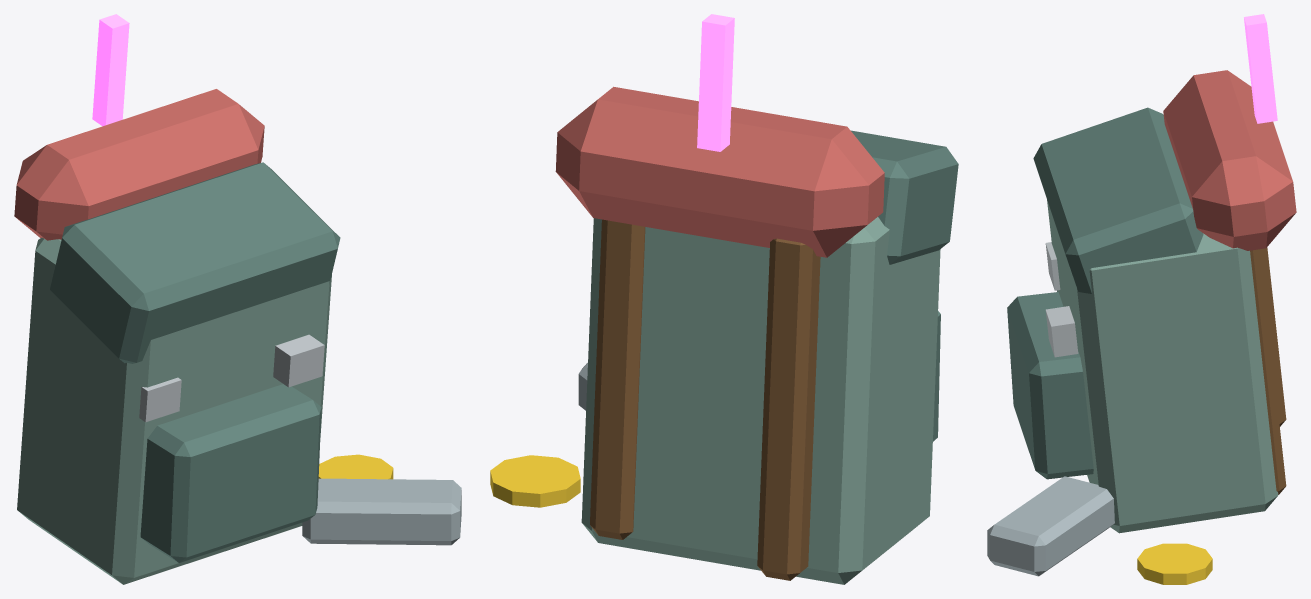
The model's file is loot_player_backpack.glb.
The picture shows the model from 3 angles, left to right: view 1: azimuth 30°, elevation 25°; view 2: azimuth 150°, elevation 25°; view 3: azimuth 270°, elevation 25°; orthographic projection. The views are drawn at different scales.
Parts seen in each view (by area): view 1: Pack_Body, Pack_Flap, Pack_Pocket, Pack_Bedroll, Pack_Spill_Ingot, Pack_Marker, Pack_Buckle_2, Pack_Spill_Coin, Pack_Buckle_1; view 2: Pack_Body, Pack_Bedroll, Pack_Strap_1, Pack_Strap_2, Pack_Flap, Pack_Marker, Pack_Spill_Coin, Pack_Pocket; view 3: Pack_Body, Pack_Flap, Pack_Bedroll, Pack_Pocket, Pack_Spill_Ingot, Pack_Strap_2, Pack_Spill_Coin, Pack_Marker, Pack_Strap_1, Pack_Buckle_2, Pack_Buckle_1.
Boxes of the visible parts, left/top/right/bottom form: Pack_Body: left=17, top=237, right=331, bottom=584; Pack_Flap: left=50, top=162, right=340, bottom=363; Pack_Pocket: left=140, top=384, right=321, bottom=562; Pack_Bedroll: left=14, top=89, right=264, bottom=240; Pack_Spill_Ingot: left=302, top=478, right=461, bottom=545; Pack_Marker: left=92, top=14, right=129, bottom=126; Pack_Buckle_2: left=273, top=334, right=324, bottom=387; Pack_Spill_Coin: left=318, top=454, right=393, bottom=479; Pack_Buckle_1: left=139, top=377, right=181, bottom=422; Pack_Body: left=581, top=217, right=940, bottom=584; Pack_Bedroll: left=555, top=86, right=884, bottom=257; Pack_Strap_1: left=757, top=238, right=820, bottom=580; Pack_Strap_2: left=590, top=219, right=645, bottom=539; Pack_Flap: left=851, top=130, right=958, bottom=264; Pack_Marker: left=697, top=14, right=734, bottom=151; Pack_Spill_Coin: left=490, top=455, right=580, bottom=507; Pack_Pocket: left=933, top=311, right=940, bottom=441; Pack_Body: left=1047, top=200, right=1278, bottom=533; Pack_Flap: left=1033, top=107, right=1203, bottom=293; Pack_Bedroll: left=1163, top=70, right=1296, bottom=250; Pack_Pocket: left=1007, top=292, right=1093, bottom=479; Pack_Spill_Ingot: left=987, top=476, right=1114, bottom=576; Pack_Strap_2: left=1250, top=249, right=1286, bottom=494; Pack_Spill_Coin: left=1137, top=543, right=1212, bottom=584; Pack_Marker: left=1244, top=14, right=1277, bottom=123; Pack_Strap_1: left=1260, top=247, right=1286, bottom=426; Pack_Buckle_2: left=1045, top=306, right=1078, bottom=357; Pack_Buckle_1: left=1045, top=242, right=1060, bottom=290.
Size of the model in its own units: 0.5555 by 0.7407 by 0.4511.
